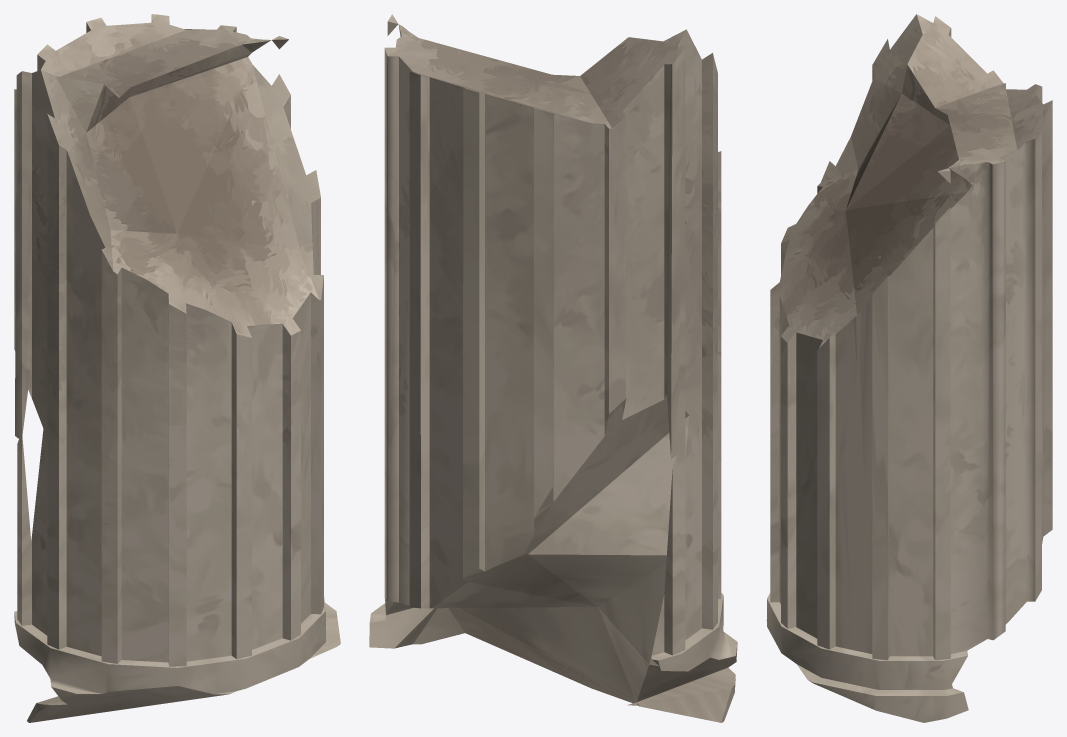
File: kolumna_srodek.obj
The picture shows the model from 3 angles, left to right: view 1: azimuth 30°, elevation 25°; view 2: azimuth 150°, elevation 25°; view 3: azimuth 270°, elevation 25°; orthographic projection. The views are drawn at different scales.
Visible parts, largest first — view 1: Cylinder.016; view 2: Cylinder.016; view 3: Cylinder.016.
Part boxes in pixels (box(x1,y1,x2,y2)): Cylinder.016: box(14, 14, 340, 722); Cylinder.016: box(369, 14, 737, 722); Cylinder.016: box(766, 14, 1052, 722).
Bounding box in the file's own units: 5.3 × 10.9 × 4.72.
Materials: 1 (1 with a texture image).
